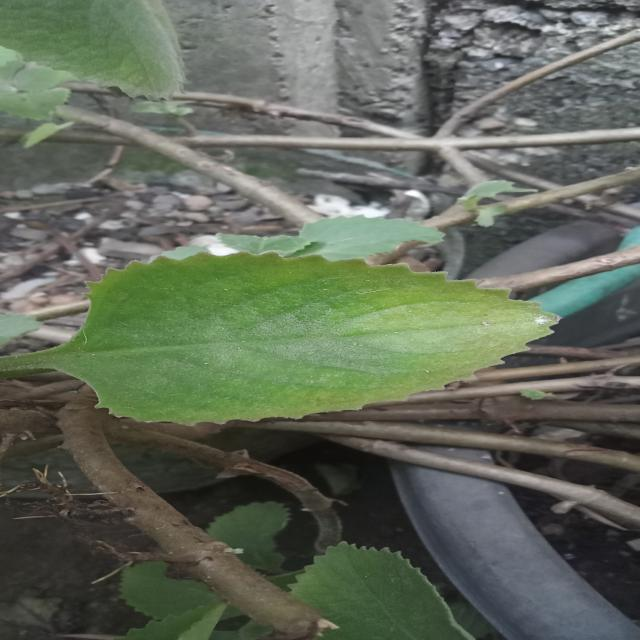Oregano: (46, 244, 578, 442)
